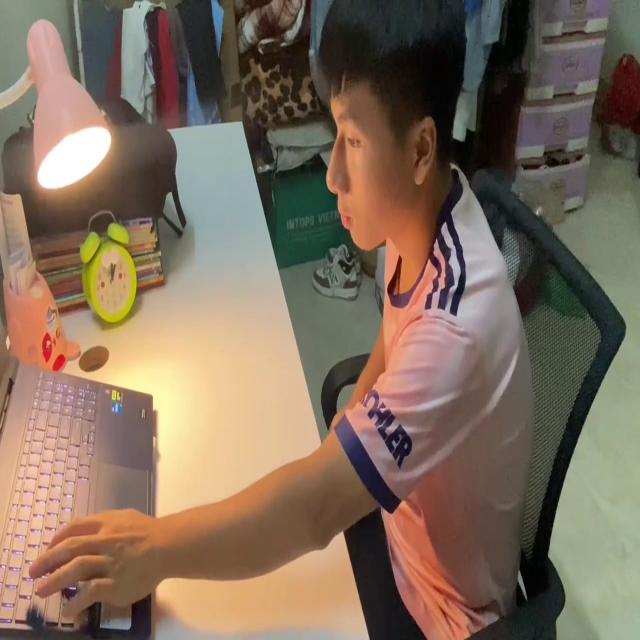laptop: (0, 320, 156, 640)
student: (29, 0, 532, 640)
